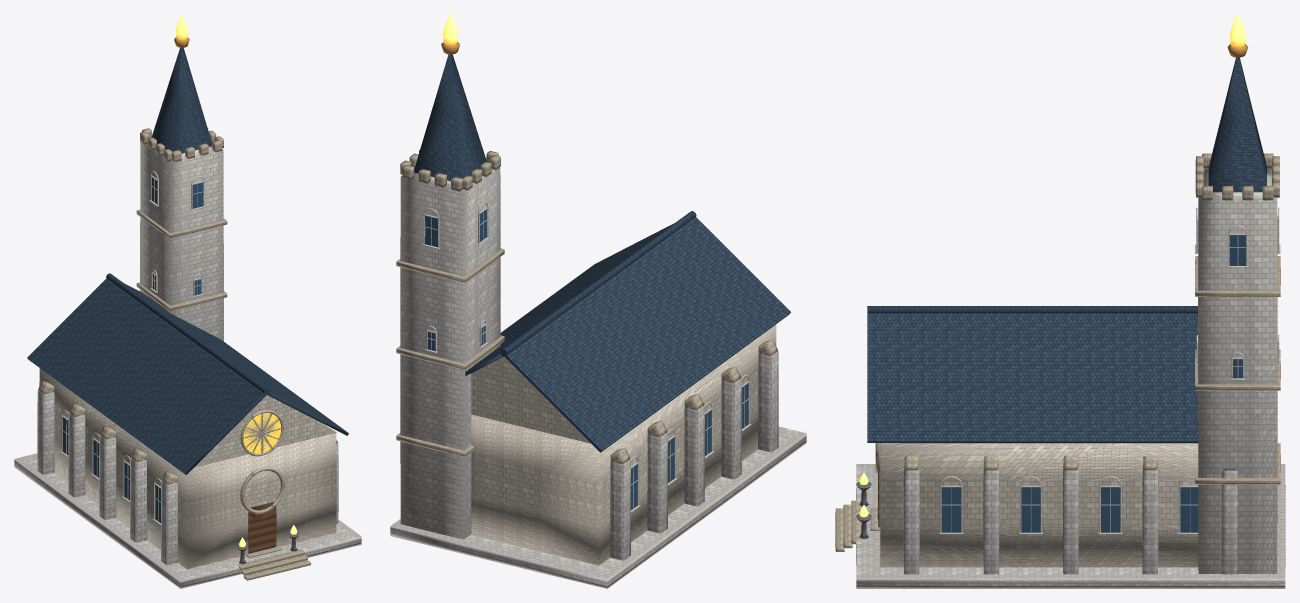
File: building_emberhall.glb
3 renders of one model, left to right at view 1: azimuth 30°, elevation 25°; view 2: azimuth 150°, elevation 25°; view 3: azimuth 270°, elevation 25°, orthographic. The views are drawn at different scales.
Visible parts, largest first — view 1: building_emberhall_stone_blocks, building_emberhall; view 2: building_emberhall_stone_blocks, building_emberhall; view 3: building_emberhall_stone_blocks, building_emberhall.
Boxes of the visible parts, box(x1,y1,x2,y2) form: building_emberhall_stone_blocks: box(14, 127, 361, 588); building_emberhall: box(27, 14, 348, 563); building_emberhall_stone_blocks: box(390, 150, 806, 588); building_emberhall: box(414, 14, 790, 509); building_emberhall_stone_blocks: box(835, 153, 1285, 588); building_emberhall: box(856, 14, 1266, 538).
Bounding box in the file's own units: 17 × 38.5 × 28.3.
Materials: 9 (3 with a texture image).
